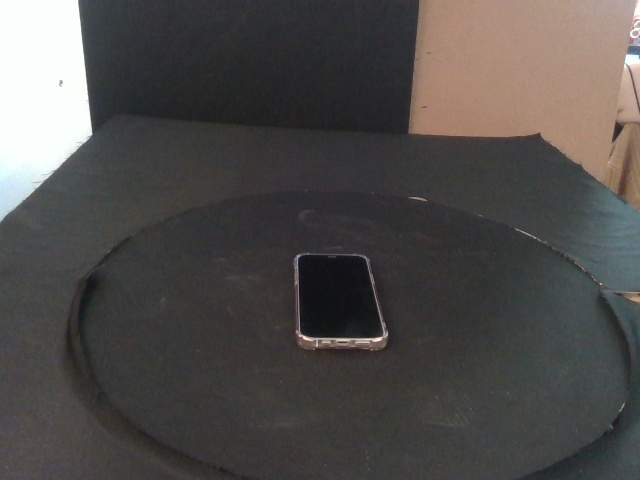phone: (291, 251, 389, 352)
